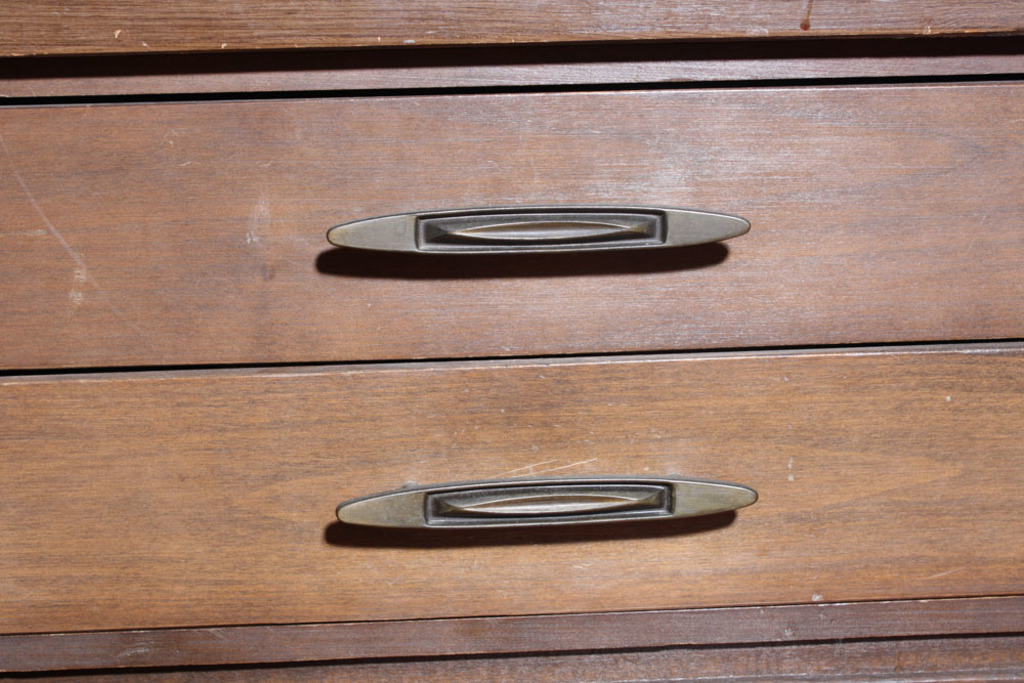cabinet door: (4, 102, 1024, 344), (6, 358, 1024, 595)
handle: (324, 204, 755, 265), (330, 479, 756, 535)
